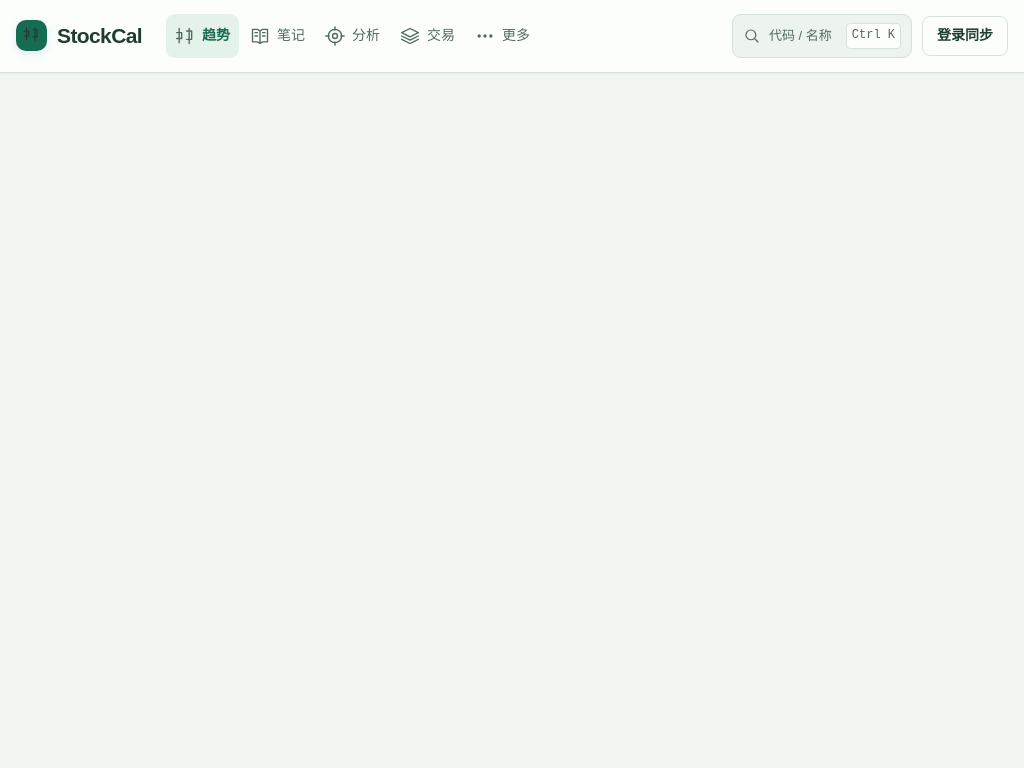
AppShell › matches the sample feedback interactions and supports the search shortcut
Click the button with aria-label "更多功能" at point(503, 36), box [466,14,539,58]
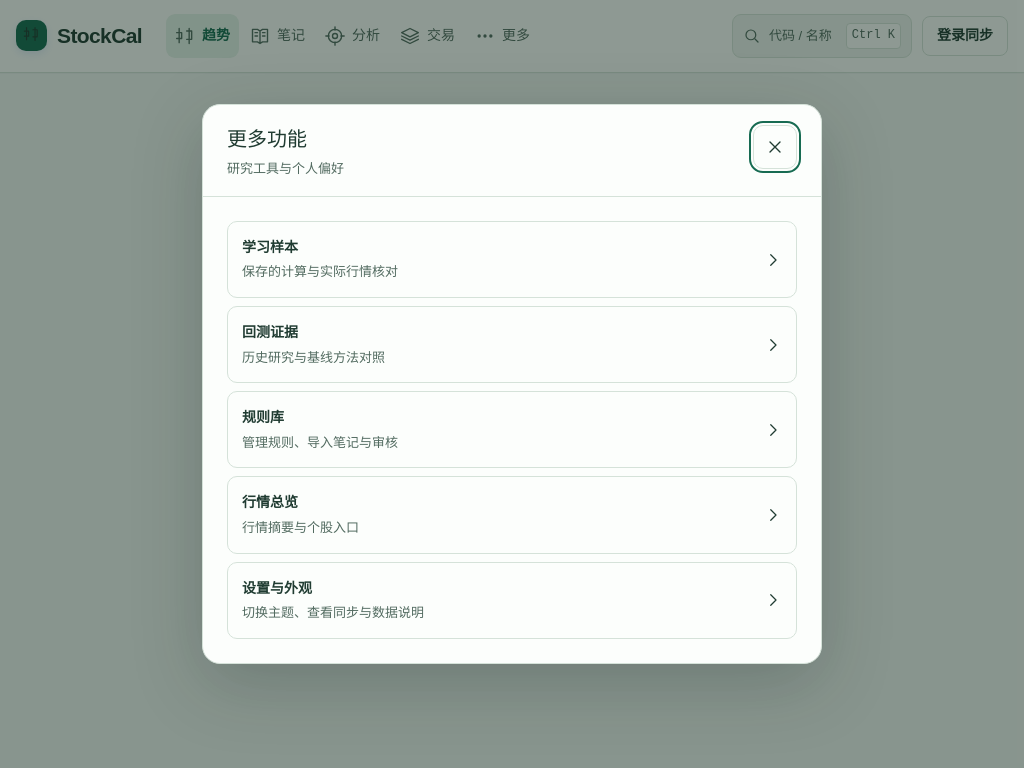
Check: the dialog "更多功能" is shown, box [202,104,822,664]
Press Escape
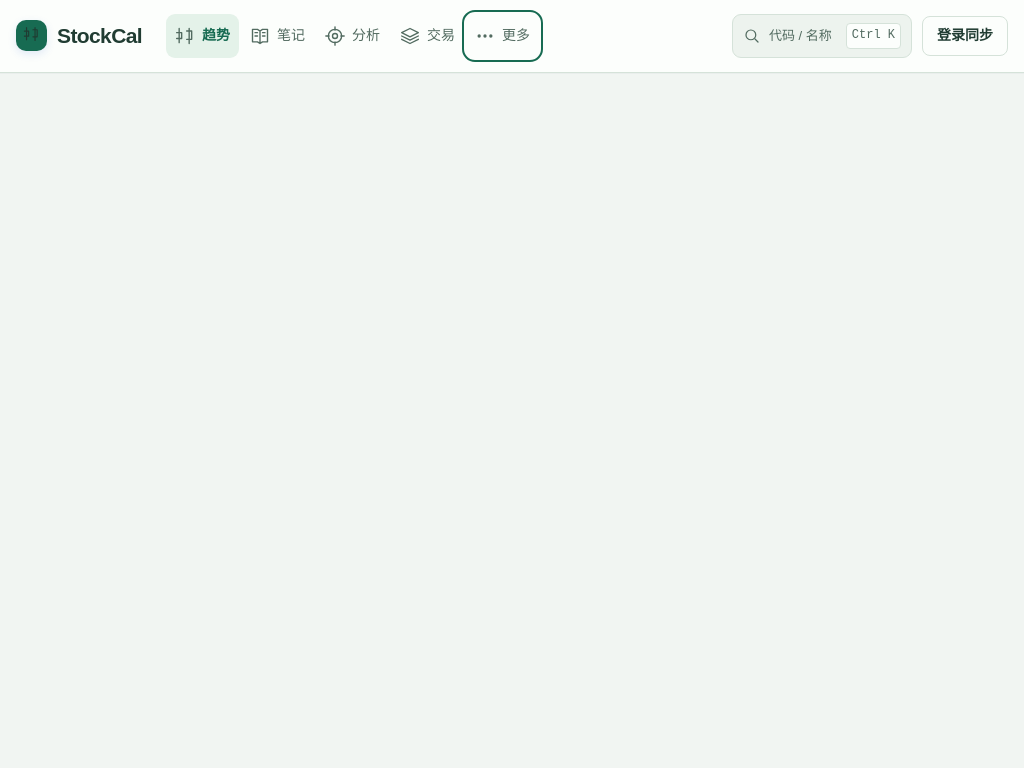
Type keys "{Control>}k{/Control}"
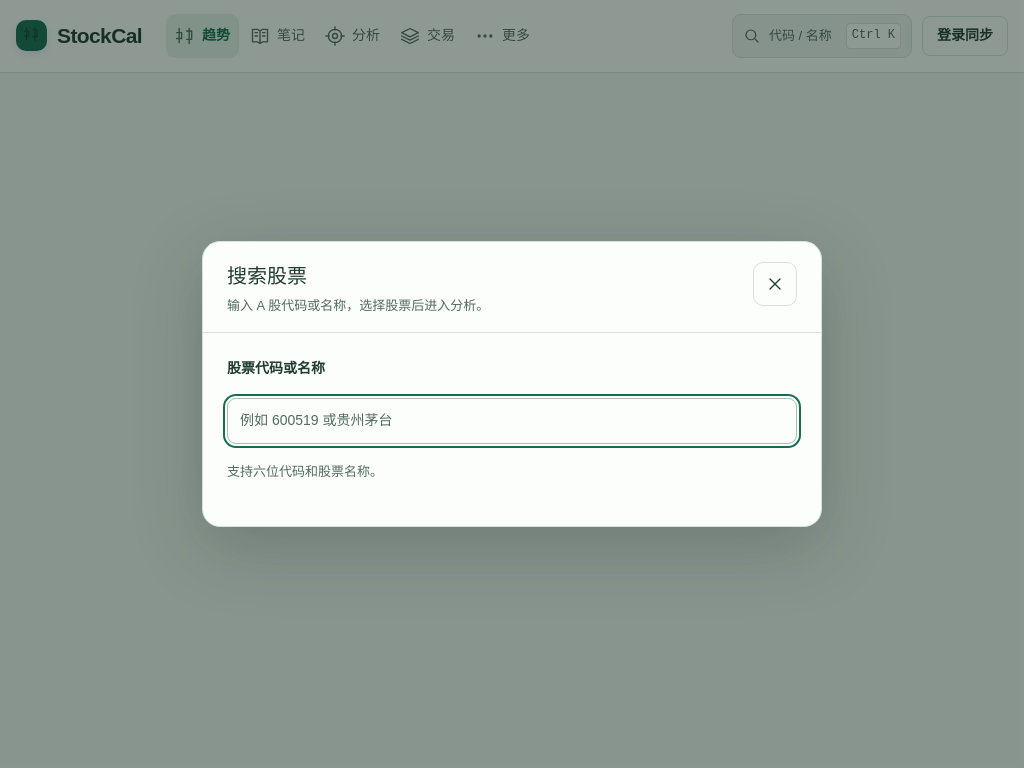
Check: the field labelled "股票代码或名称" is shown, box [227,398,797,444]
